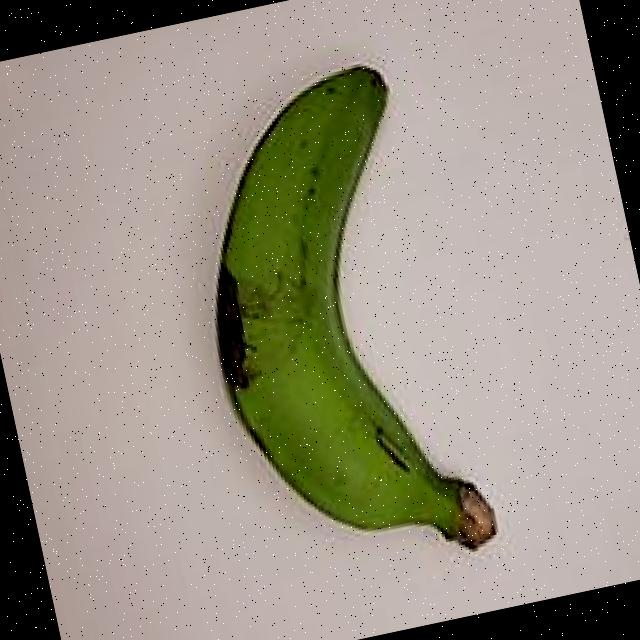Raw: (137, 33, 538, 612)
